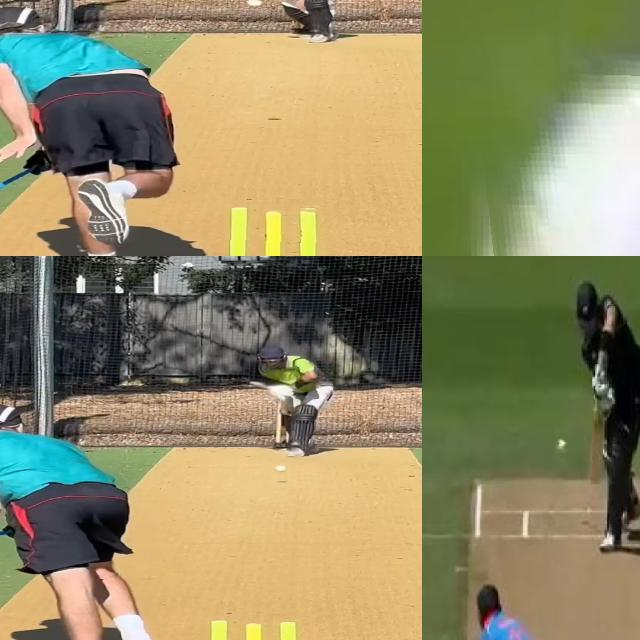Cricket ball: (470, 41, 640, 256), (556, 437, 568, 455), (245, 0, 263, 8), (274, 464, 287, 472)
Stumps: (211, 205, 339, 256)
